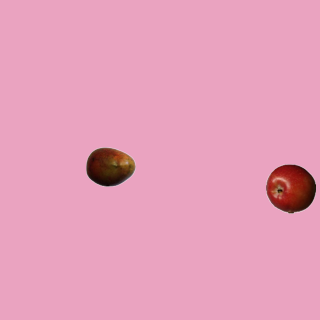Apple Braeburn: (265, 163, 315, 213)
Mango Red: (85, 141, 135, 191)
